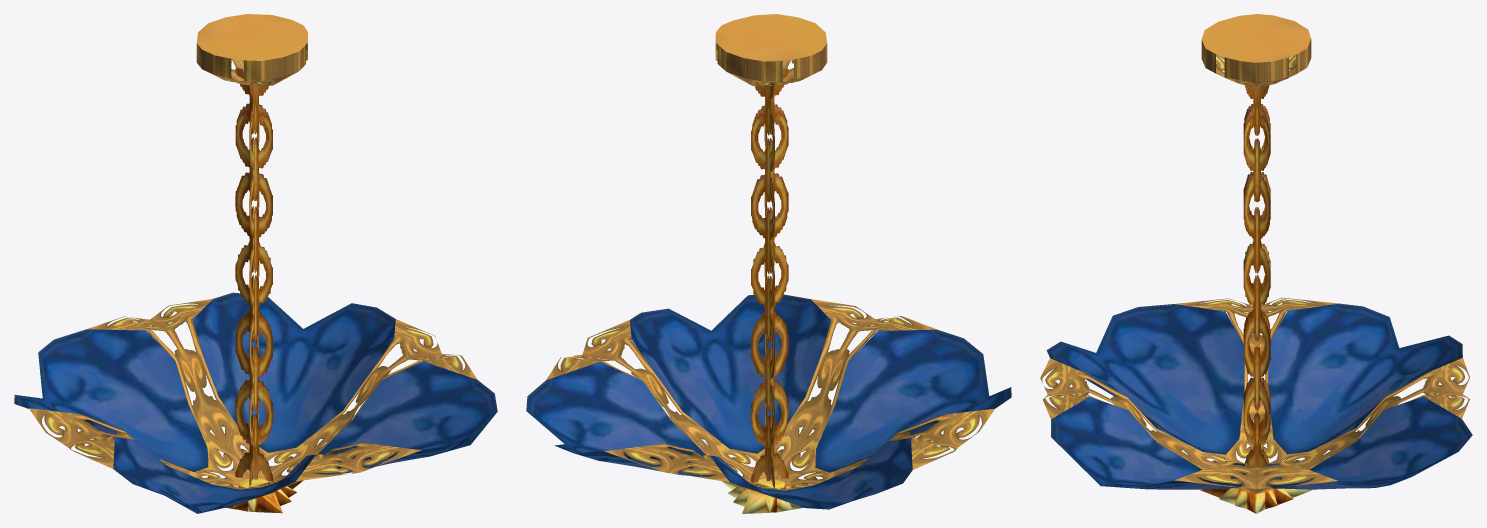
3 views of the same model, side by side, from view 1: azimuth 30°, elevation 25°; view 2: azimuth 150°, elevation 25°; view 3: azimuth 270°, elevation 25° (orthographic).
Bounding box in the file's own units: 2.77 × 3.14 × 2.68.
3 materials, 3 textured.
